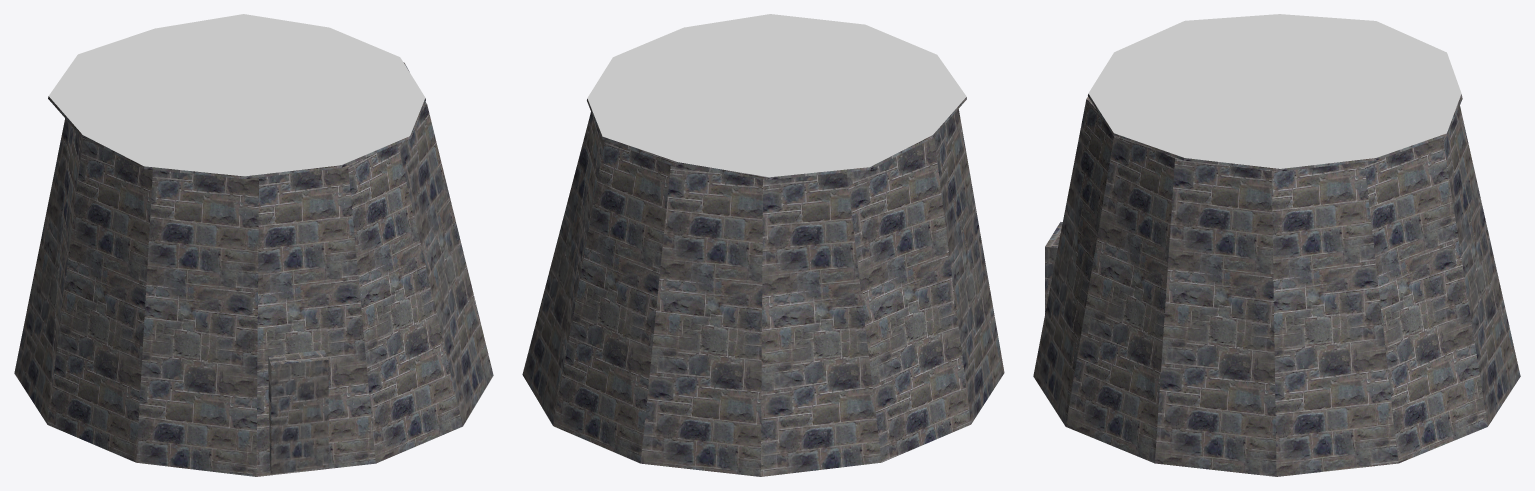
The model's file is windmill_03_haus_06.obj.
The picture shows the model from 3 angles, left to right: view 1: azimuth 30°, elevation 25°; view 2: azimuth 150°, elevation 25°; view 3: azimuth 270°, elevation 25°; orthographic projection.
Parts seen in each view (by area): view 1: Object.1; view 2: Object.1; view 3: Object.1.
Part boxes in pixels (x1=…): Object.1: x1=14, y1=14, x2=493, y2=476; Object.1: x1=522, y1=14, x2=1004, y2=476; Object.1: x1=1033, y1=14, x2=1520, y2=476.
Bounding box in the file's own units: 1000 × 648 × 1024.
